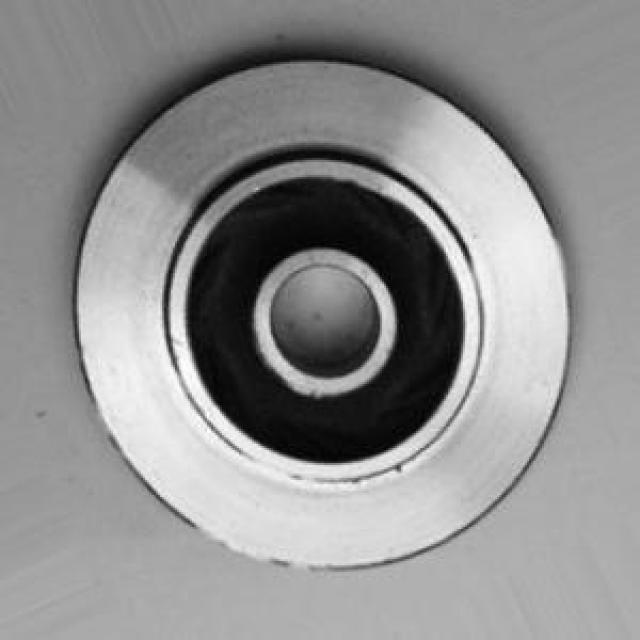Defect: (384, 458, 413, 478)
